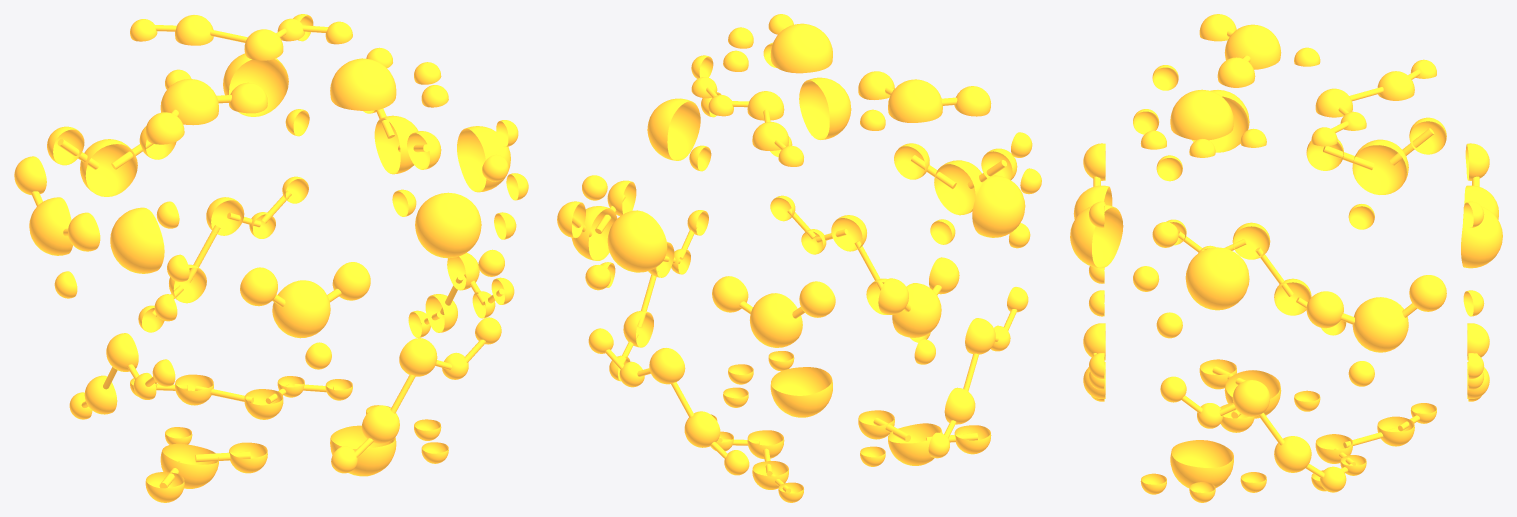
The model's file is goldore.fbx.
The picture shows the model from 3 angles, left to right: view 1: azimuth 30°, elevation 25°; view 2: azimuth 150°, elevation 25°; view 3: azimuth 270°, elevation 25°; orthographic projection. The views are drawn at different scales.
Visible parts, largest first — view 1: Sphere__9__5; view 2: Sphere__9__5; view 3: Sphere__9__5.
Boxes of the visible parts, x1,y1,x2,y2 form: Sphere__9__5: (14, 14, 528, 502); Sphere__9__5: (557, 14, 1041, 502); Sphere__9__5: (1070, 14, 1502, 502).
Bounding box in the file's own units: 122 × 122 × 121.
